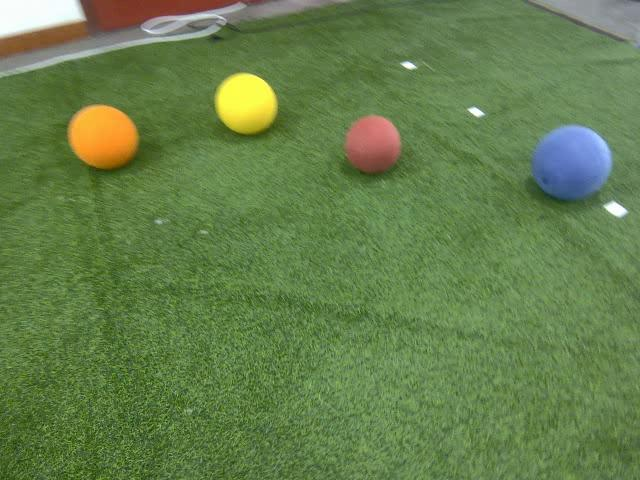blue_ball: (529, 125, 612, 201)
orange_ball: (67, 102, 140, 171)
red_ball: (344, 112, 399, 177)
yellow_ball: (212, 70, 276, 138)
